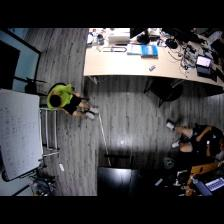normal: (166, 120, 224, 158), (44, 85, 101, 120)
